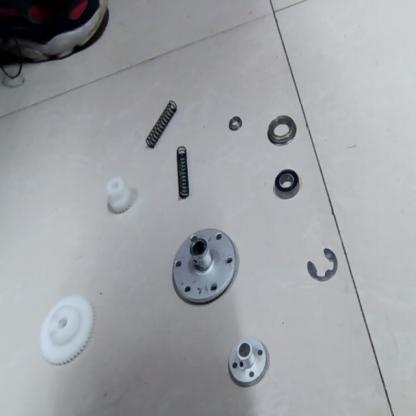FOD: (166, 222, 240, 306), (38, 291, 97, 367), (225, 336, 271, 389), (145, 96, 178, 151), (266, 165, 303, 202), (305, 248, 340, 282), (266, 113, 298, 149), (106, 178, 133, 219), (175, 145, 192, 201), (227, 113, 245, 134)
